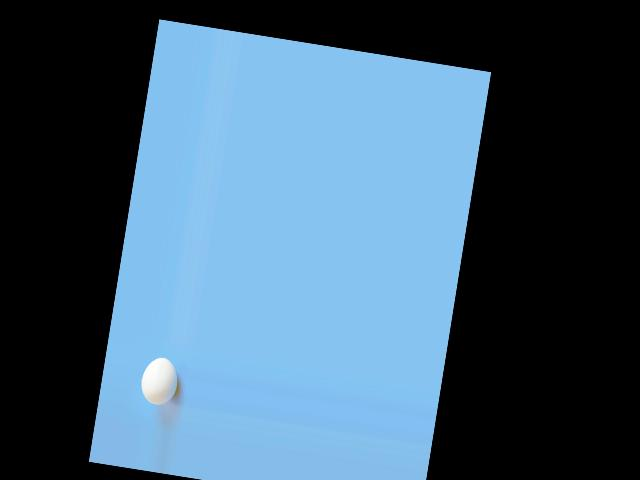egg: (138, 354, 181, 408)
